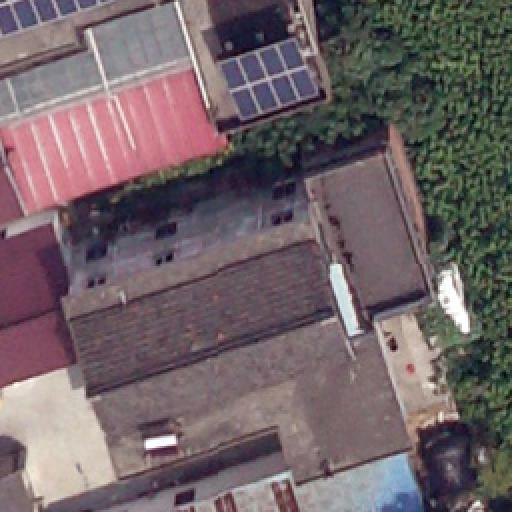solar-panel: (217, 38, 319, 122), (0, 1, 104, 39)
